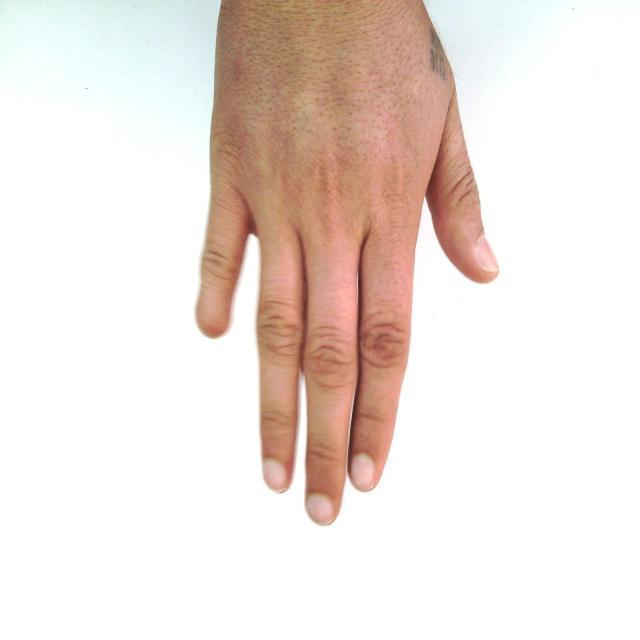Fingernail: (350, 455, 374, 489), (307, 494, 333, 524), (477, 237, 499, 272), (264, 460, 286, 492)
